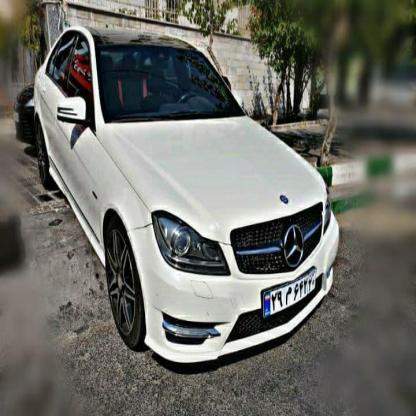Car: (27, 37, 338, 381), (0, 82, 41, 148)
